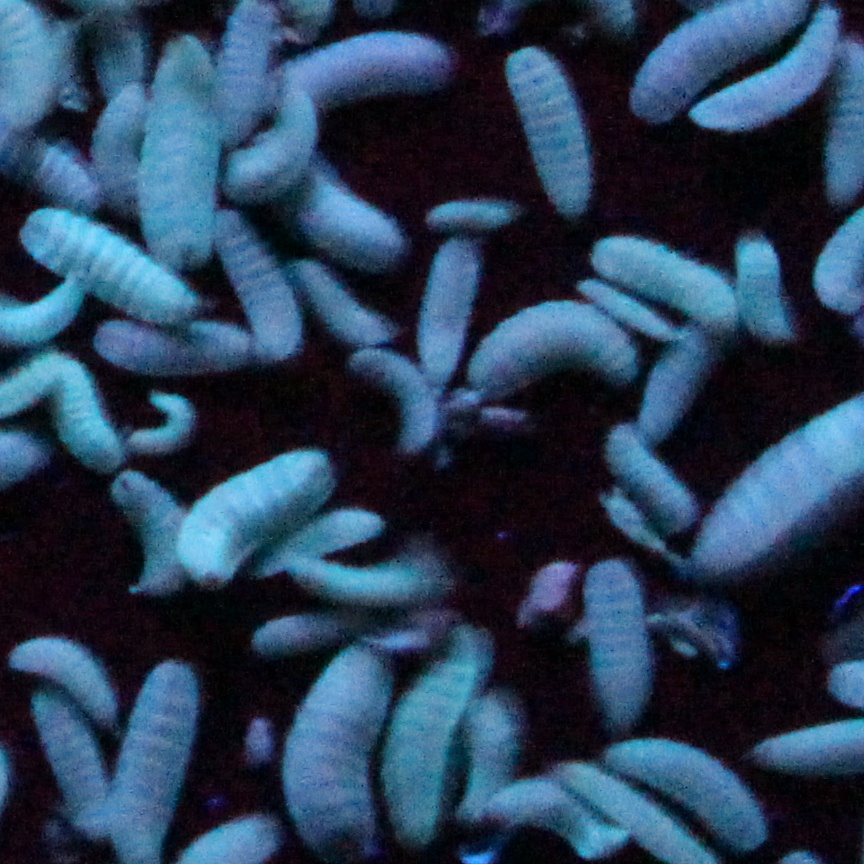larve: (173, 432, 338, 592), (450, 285, 645, 410), (383, 637, 490, 842), (668, 2, 835, 127), (145, 42, 233, 265), (595, 730, 755, 850), (28, 215, 198, 327), (565, 752, 723, 862), (510, 50, 605, 215), (255, 32, 445, 112), (30, 675, 113, 847), (213, 82, 325, 205), (295, 140, 405, 265), (578, 565, 665, 715), (340, 340, 455, 450), (280, 550, 430, 630), (588, 235, 728, 317), (115, 465, 193, 607), (603, 422, 698, 522), (263, 495, 385, 570), (53, 372, 130, 487), (225, 222, 293, 342), (103, 80, 163, 215), (13, 637, 120, 712), (105, 307, 203, 385), (18, 140, 103, 220), (410, 182, 525, 240), (133, 377, 200, 465), (733, 235, 788, 332)
